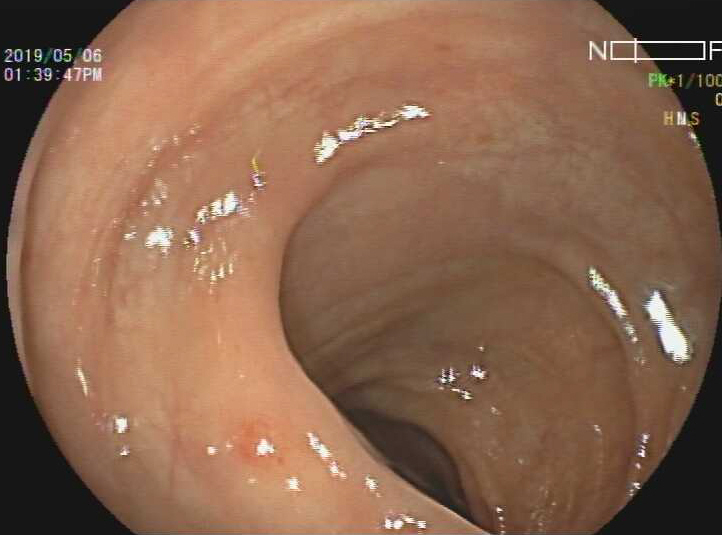adenoma: (230, 411, 300, 480)
